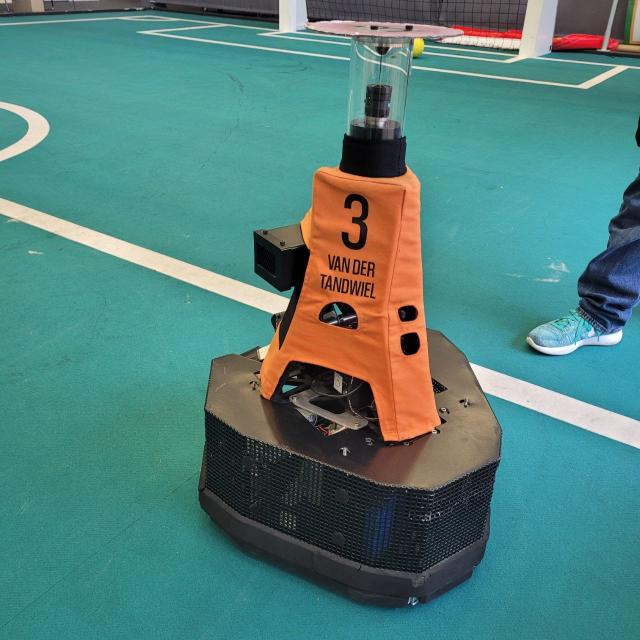robot: (178, 11, 511, 612)
